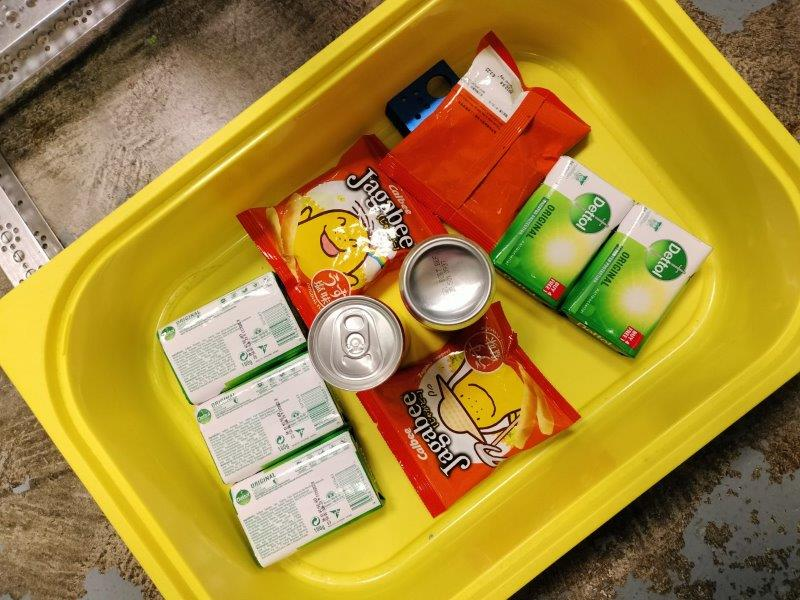Coke: (307, 295, 407, 394), (399, 235, 497, 331)
Dettol: (560, 203, 712, 357), (492, 155, 632, 309), (228, 430, 384, 568), (154, 273, 306, 407), (194, 356, 348, 482)
Jagabee: (381, 32, 592, 253), (360, 307, 579, 517), (238, 136, 452, 327)
